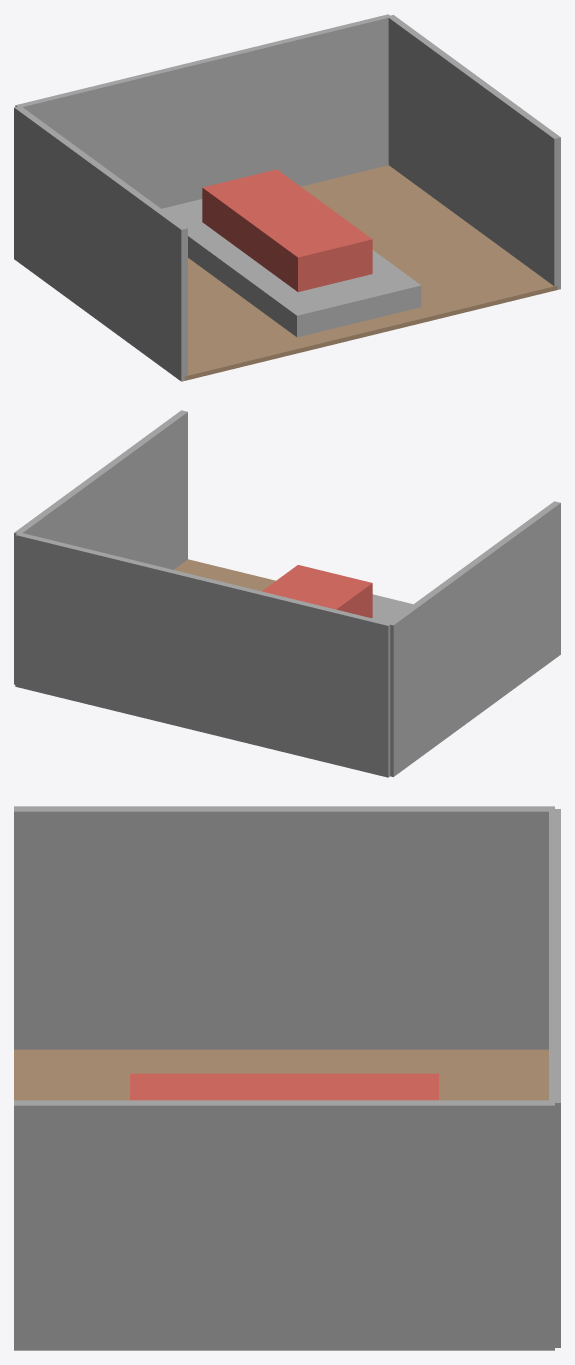
Rendered from auto_garage.glb.
3 renders of one model, top to bottom at view 1: azimuth 30°, elevation 25°; view 2: azimuth 150°, elevation 25°; view 3: azimuth 270°, elevation 25°, orthographic. The views are drawn at different scales.
Visible parts, largest first — view 1: back, left, right, floor, carbody, lift; view 2: back, left, right, carbody, floor, lift; view 3: right, left, floor, carbody, back.
Boxes of the visible parts, <box> form: back: <box>15,14,391,208</box>; left: <box>14,106,187,381</box>; right: <box>388,15,560,289</box>; floor: <box>184,165,557,380</box>; carbody: <box>202,169,372,291</box>; lift: <box>161,199,421,337</box>; back: <box>15,533,391,777</box>; left: <box>389,501,560,776</box>; right: <box>14,410,187,684</box>; carbody: <box>262,565,372,618</box>; floor: <box>174,559,275,591</box>; lift: <box>372,594,412,622</box>; right: <box>14,1100,554,1350</box>; left: <box>14,806,554,1049</box>; floor: <box>14,1049,548,1100</box>; carbody: <box>130,1073,438,1100</box>; back: <box>549,809,560,1347</box>.
Bounding box in the file's own units: 9.16 × 3.5 × 7.08.
